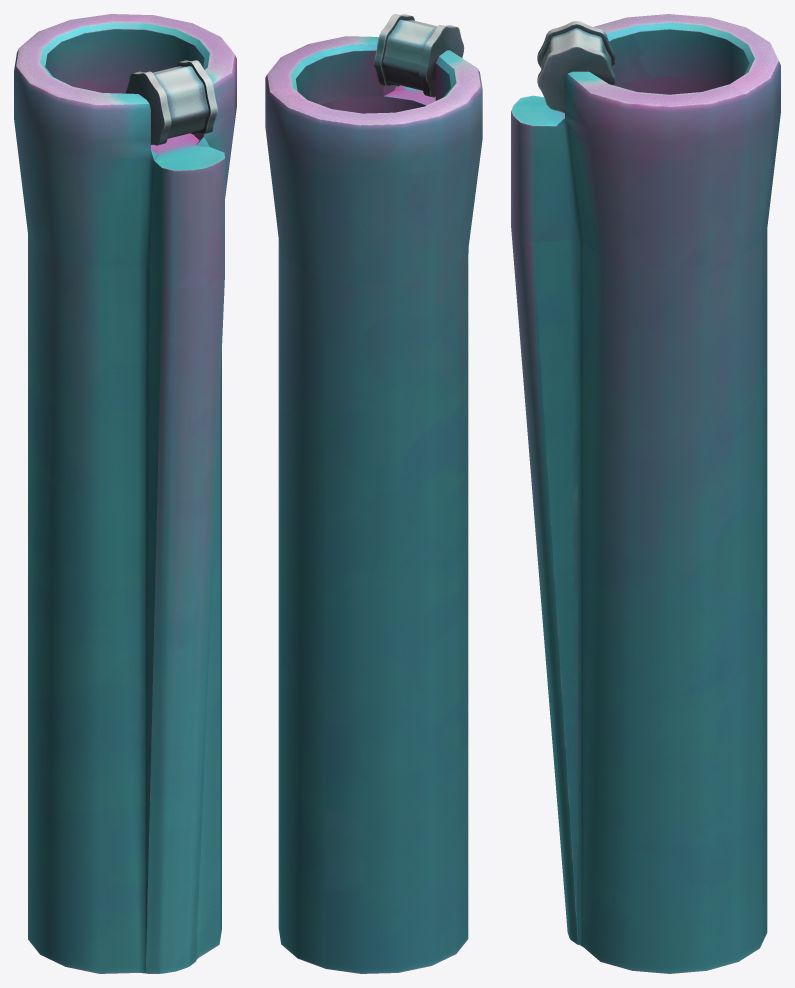
File: pip2_lighter_bm.fbx
3 renders of one model, left to right at view 1: azimuth 30°, elevation 25°; view 2: azimuth 150°, elevation 25°; view 3: azimuth 270°, elevation 25°, orthographic. The views are drawn at different scales.
Visible parts, largest first — view 1: lighter; view 2: lighter; view 3: lighter.
Boxes of the visible parts, bbox=[...] form: lighter: bbox=[14, 14, 236, 973]; lighter: bbox=[265, 14, 482, 973]; lighter: bbox=[511, 14, 780, 973].
Size of the model in its own units: 1.73 by 7.65 by 2.08.
2 materials, 2 textured.
